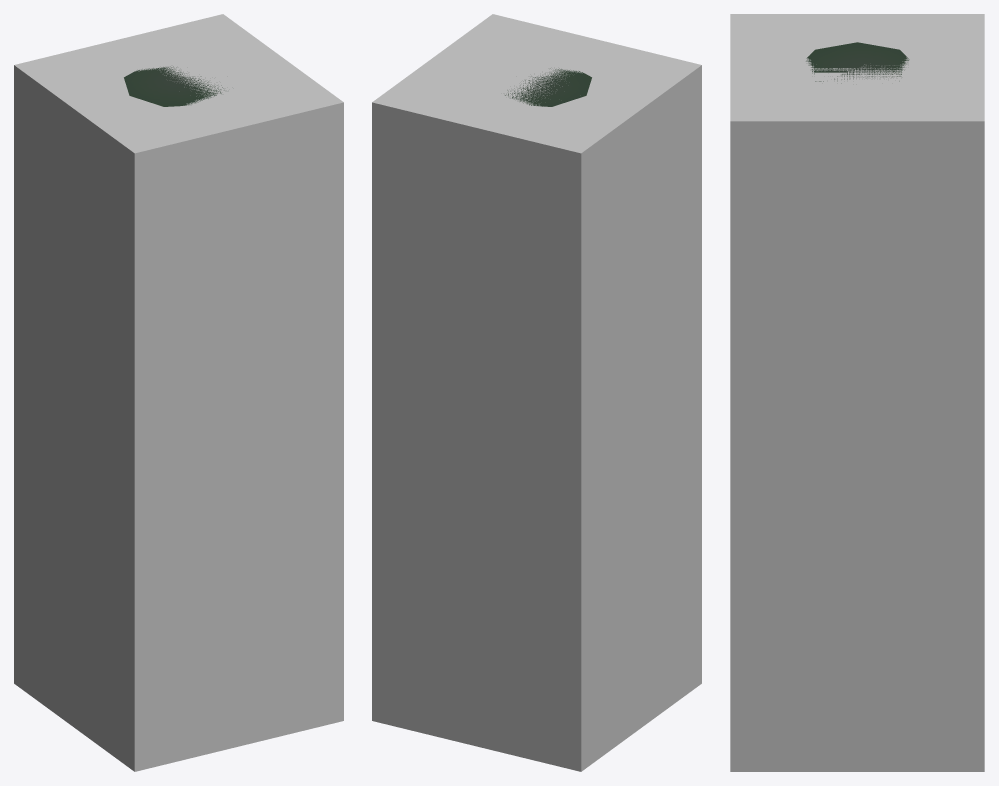
The model's file is SM_Bottle_02.fbx.
3 renders of one model, left to right at view 1: azimuth 30°, elevation 25°; view 2: azimuth 150°, elevation 25°; view 3: azimuth 270°, elevation 25°, orthographic. The views are drawn at different scales.
Visible parts, largest first — view 1: SM_Bottle_02_ConvexHulls, SM_Bottle_02; view 2: SM_Bottle_02_ConvexHulls, SM_Bottle_02; view 3: SM_Bottle_02_ConvexHulls, SM_Bottle_02.
Boxes of the visible parts, x1,y1,x2,y2 form: SM_Bottle_02_ConvexHulls: (14,14,343,771); SM_Bottle_02: (124,66,224,106); SM_Bottle_02_ConvexHulls: (372,14,701,771); SM_Bottle_02: (505,68,591,106); SM_Bottle_02_ConvexHulls: (730,14,984,771); SM_Bottle_02: (806,42,909,83).
Bounding box in the file's own units: 8.82 × 8.82 × 24.93.
2 materials, 1 textured.
